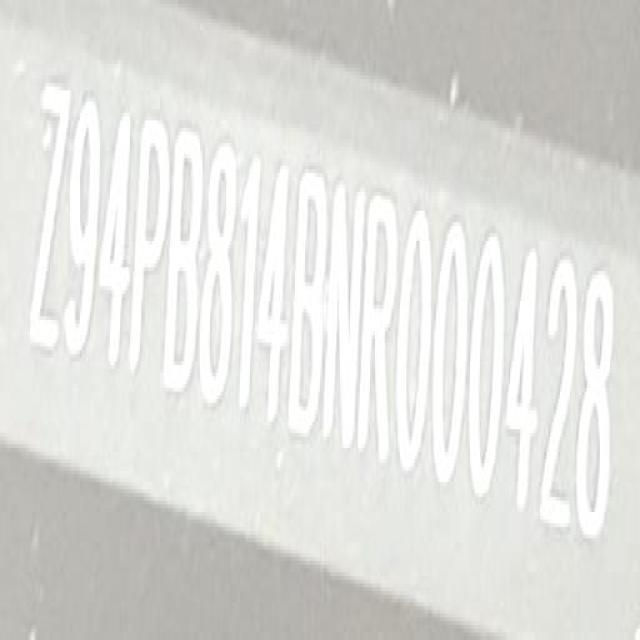0: (465, 231, 508, 503), (393, 212, 436, 475), (429, 221, 471, 490)
1: (233, 157, 260, 416)
2: (537, 258, 583, 530)
4: (94, 108, 139, 374), (502, 246, 545, 514), (256, 170, 296, 423)
8: (571, 267, 620, 541)
9: (63, 98, 104, 366)
B: (161, 125, 207, 396), (290, 168, 331, 431), (200, 144, 240, 405)
N: (320, 179, 367, 448)
P: (127, 117, 169, 382)
R: (360, 192, 404, 466)
Z: (25, 80, 72, 362)
